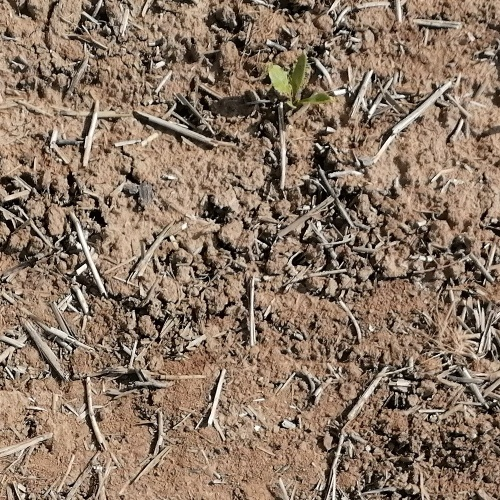beet: (270, 54, 332, 105)
